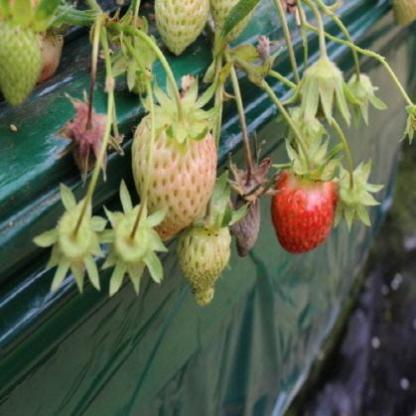Strawberry_Gray_Mold: (224, 153, 284, 256)
